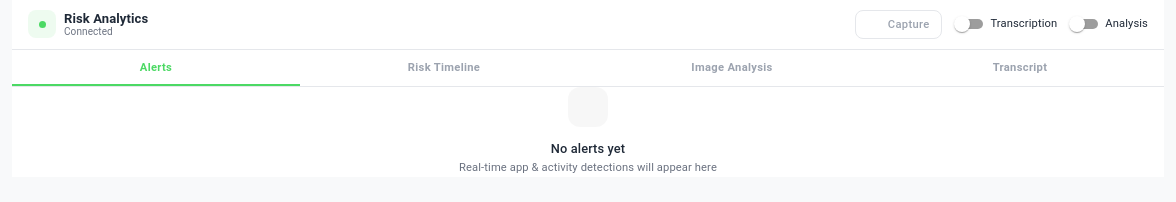
Test: AnalyticsPanel › Analysis tab empty + connected shows the "First analysis" hint
This screenshot has width=1176, height=202.
Click the tab "Risk Timeline".
click(444, 68)  # box [300,50,588,86]
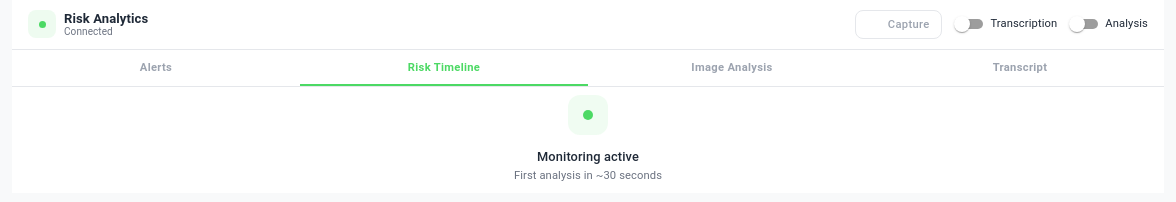
Result: the text "First analysis in ~30 seconds" is shown at [514,168,662,185]
